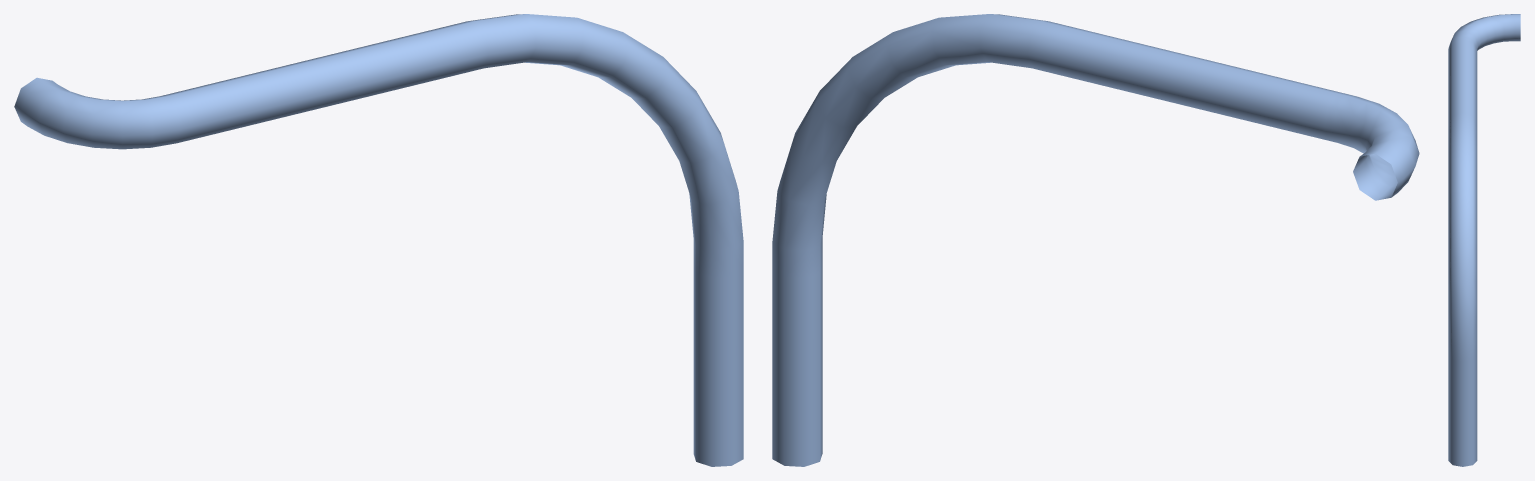
Rendered from PipeComplexSmall_B_08.fbx.
The picture shows the model from 3 angles, left to right: view 1: azimuth 30°, elevation 25°; view 2: azimuth 150°, elevation 25°; view 3: azimuth 270°, elevation 25°; orthographic projection. The views are drawn at different scales.
Parts seen in each view (by area): view 1: PipeComplexSmall_B_08.001; view 2: PipeComplexSmall_B_08.001; view 3: PipeComplexSmall_B_08.001.
Boxes of the visible parts, left/top/right/bottom form: PipeComplexSmall_B_08.001: left=14, top=14, right=743, bottom=466; PipeComplexSmall_B_08.001: left=772, top=14, right=1419, bottom=466; PipeComplexSmall_B_08.001: left=1448, top=14, right=1520, bottom=466.
Size of the model in its own units: 1.5 by 1.05 by 0.25.
